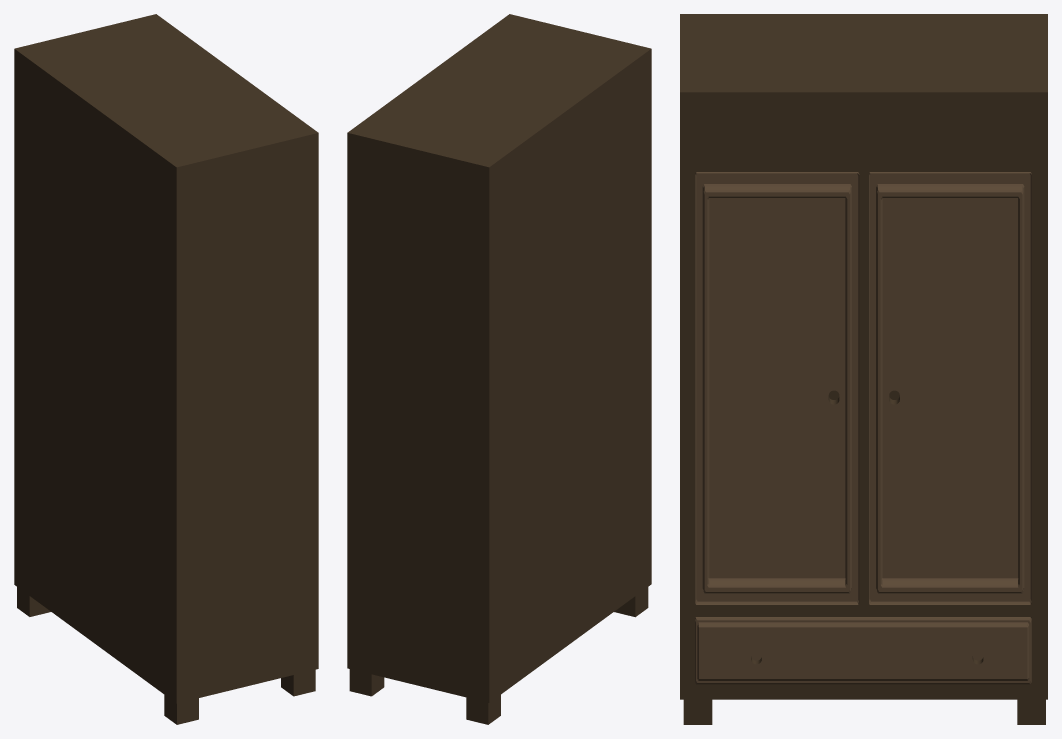
Rendered from Dresser texture.fbx.
The picture shows the model from 3 angles, left to right: view 1: azimuth 30°, elevation 25°; view 2: azimuth 150°, elevation 25°; view 3: azimuth 270°, elevation 25°; orthographic projection. The views are drawn at different scales.
Visible parts, largest first — view 1: dresser; view 2: dresser; view 3: door, dresser.
Boxes of the visible parts, x1=… form: dresser: x1=14, y1=14, x2=318, y2=724; dresser: x1=347, y1=14, x2=651, y2=724; door: x1=695, y1=172, x2=1031, y2=684; dresser: x1=680, y1=14, x2=1047, y2=724.
Bounding box in the file's own units: 139 × 474 × 250.
